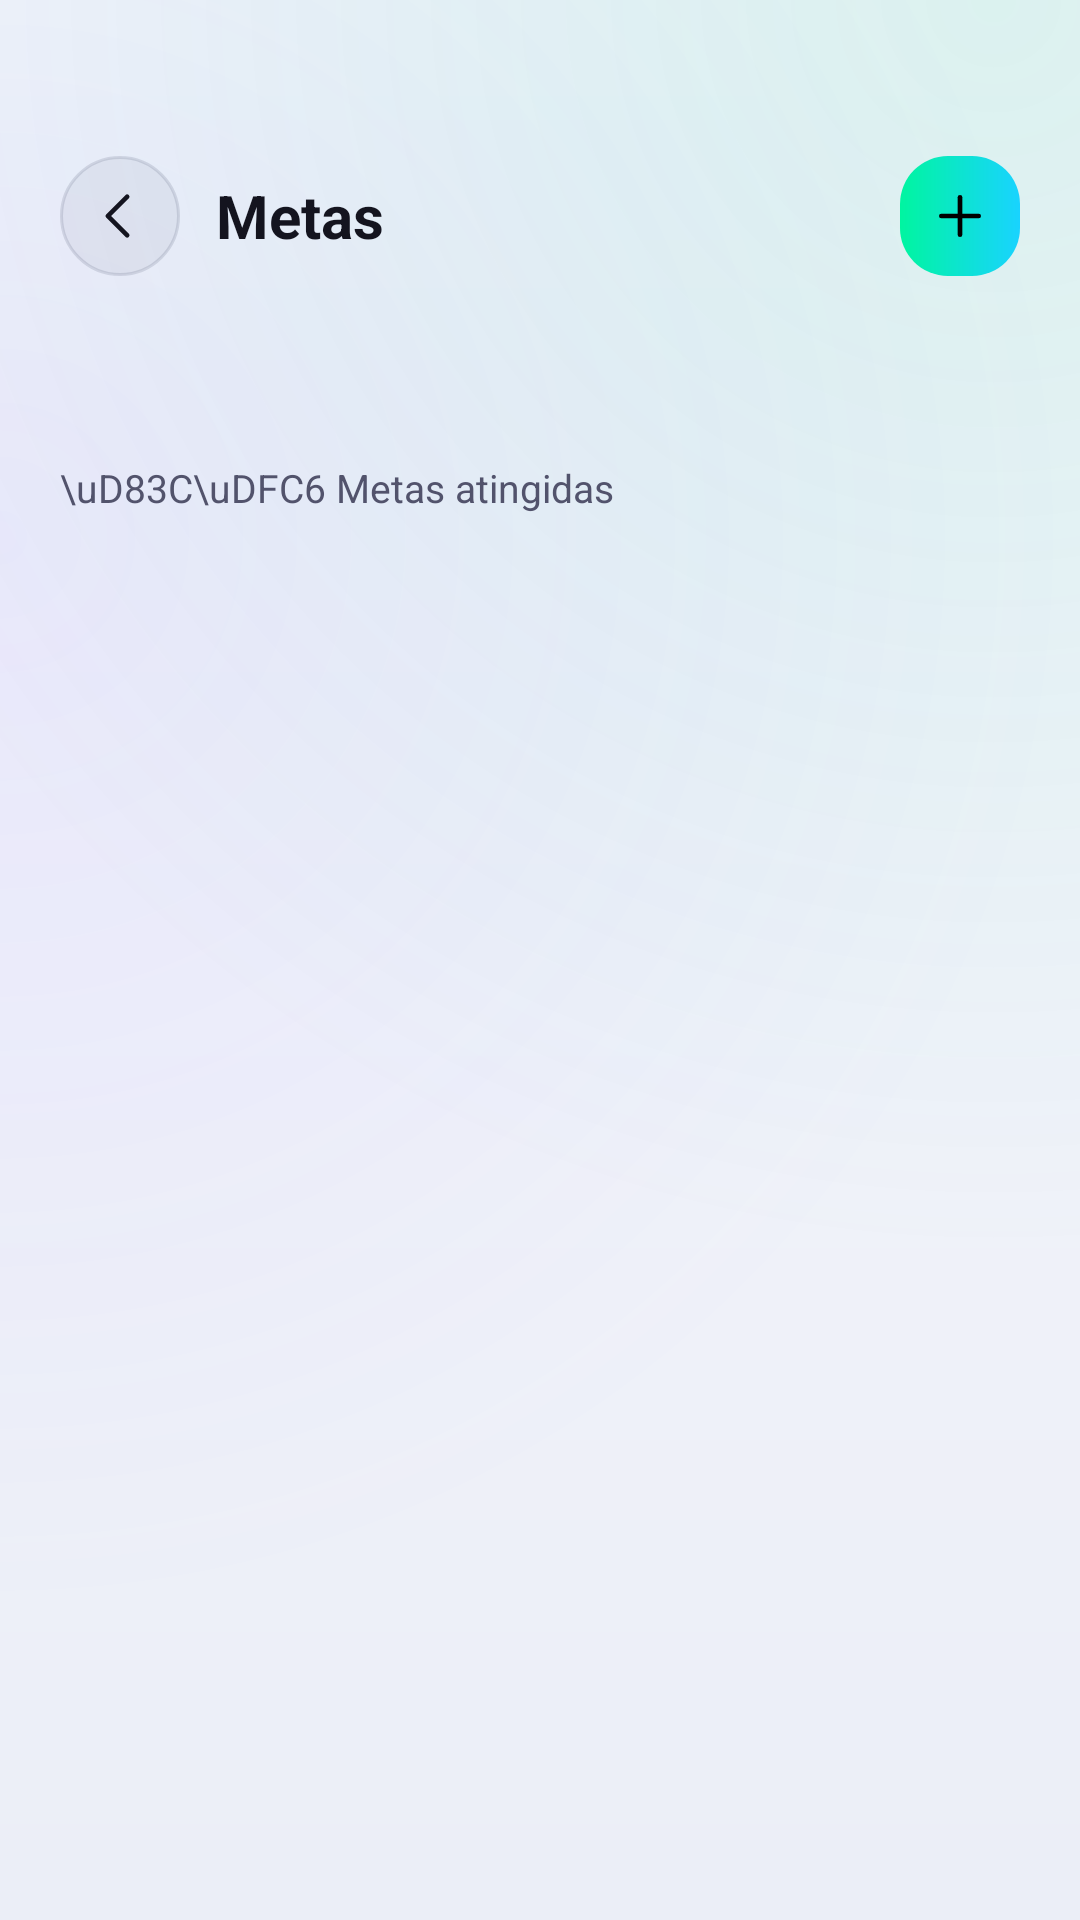

Icon click points for this 1080 × 1920 phone screenshot, format [x,y]:
back: [120,216]
plus: [960,216]
